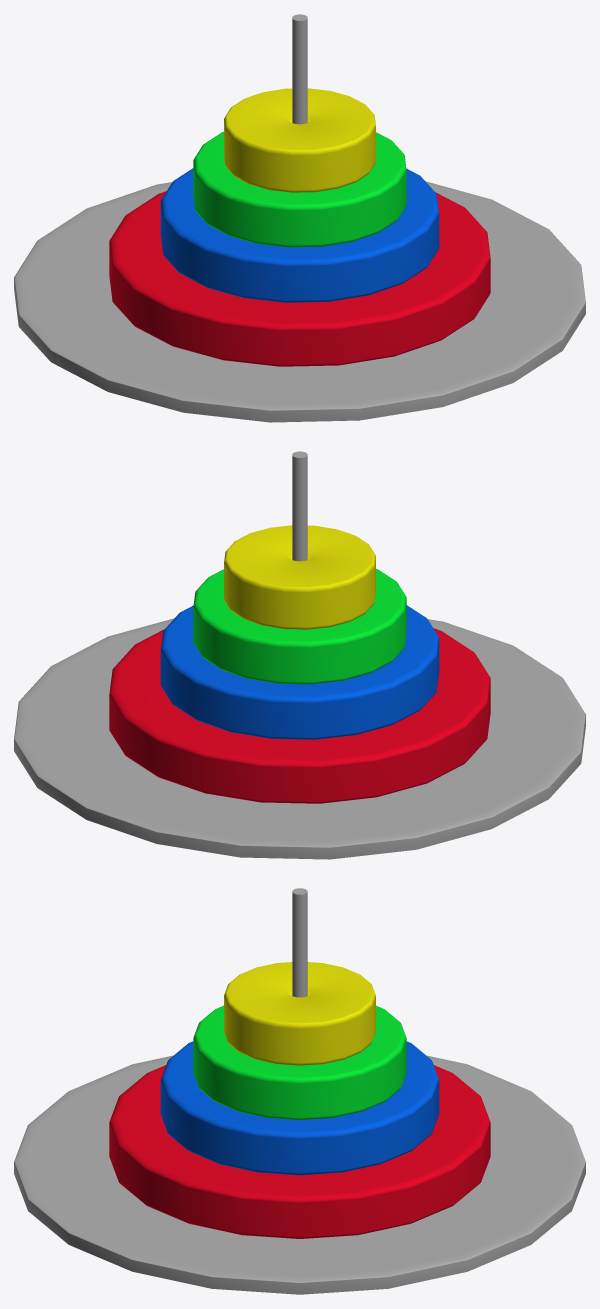
The model's file is Model_HanoiSet.fbx.
The picture shows the model from 3 angles, top to bottom: view 1: azimuth 30°, elevation 25°; view 2: azimuth 150°, elevation 25°; view 3: azimuth 270°, elevation 25°; orthographic projection.
Parts seen in each view (by area): view 1: Model_HanoiBase, Model_HanoiObj_1, Model_HanoiObj_2, Model_HanoiObj_3, Model_HanoiObj_4; view 2: Model_HanoiBase, Model_HanoiObj_1, Model_HanoiObj_2, Model_HanoiObj_3, Model_HanoiObj_4; view 3: Model_HanoiBase, Model_HanoiObj_1, Model_HanoiObj_2, Model_HanoiObj_3, Model_HanoiObj_4.
Part boxes in pixels (x1=…): Model_HanoiBase: x1=14, y1=14, x2=585, y2=422; Model_HanoiObj_1: x1=109, y1=191, x2=490, y2=366; Model_HanoiObj_2: x1=160, y1=168, x2=439, y2=302; Model_HanoiObj_3: x1=193, y1=132, x2=406, y2=247; Model_HanoiObj_4: x1=224, y1=88, x2=375, y2=192; Model_HanoiBase: x1=14, y1=451, x2=585, y2=859; Model_HanoiObj_1: x1=109, y1=628, x2=490, y2=803; Model_HanoiObj_2: x1=160, y1=605, x2=439, y2=739; Model_HanoiObj_3: x1=193, y1=569, x2=406, y2=684; Model_HanoiObj_4: x1=224, y1=525, x2=375, y2=629; Model_HanoiBase: x1=14, y1=888, x2=585, y2=1294; Model_HanoiObj_1: x1=109, y1=1065, x2=490, y2=1238; Model_HanoiObj_2: x1=160, y1=1041, x2=439, y2=1175; Model_HanoiObj_3: x1=193, y1=1005, x2=406, y2=1120; Model_HanoiObj_4: x1=224, y1=962, x2=375, y2=1065.
Size of the model in its own units: 73.11 by 40 by 73.11.
